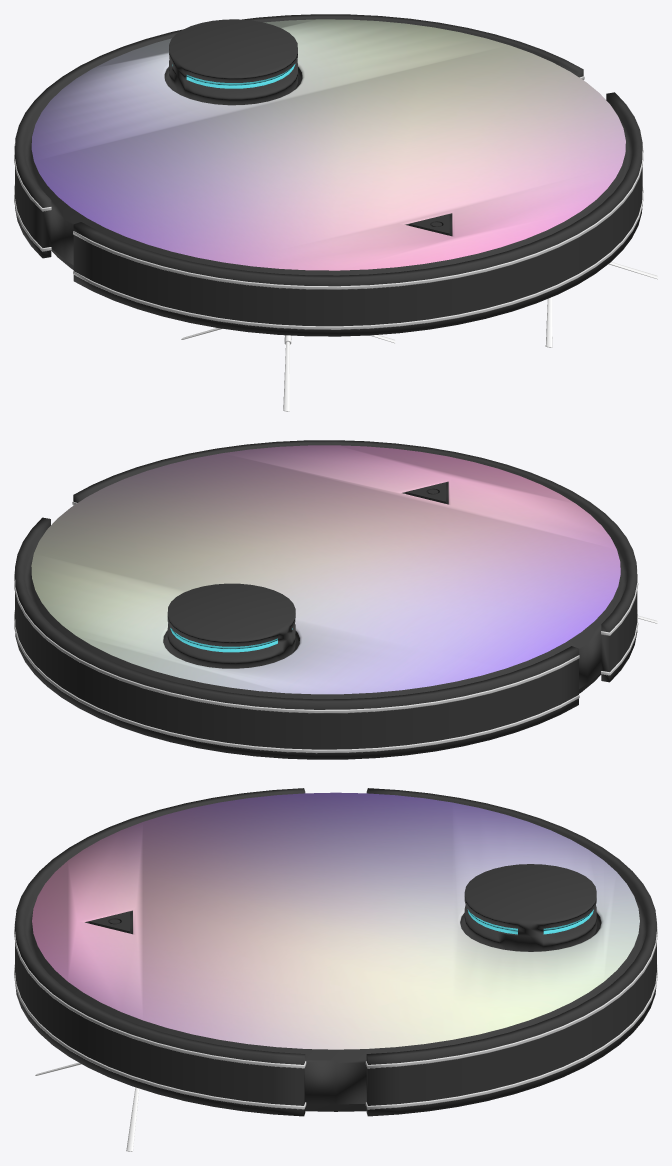
File: asset.glb
The picture shows the model from 3 angles, top to bottom: view 1: azimuth 30°, elevation 25°; view 2: azimuth 150°, elevation 25°; view 3: azimuth 270°, elevation 25°; orthographic projection. The views are drawn at different scales.
Visible parts, largest first — view 1: main body, signal, inner ring.001; view 2: main body, signal, inner ring.001, button; view 3: main body, signal, inner ring.001, button.
Boxes of the visible parts, x1,y1,x2,y2 form: main body: (15,14,642,336); signal: (169,19,297,105); inner ring.001: (14,76,643,329); main body: (15,440,637,759); signal: (167,583,295,668); inner ring.001: (14,501,638,753); button: (406,482,445,503); main body: (15,788,656,1116); signal: (464,864,596,951); inner ring.001: (14,918,657,1109); button: (88,911,129,933).
Bounding box in the file's own units: 0.653 × 0.165 × 0.6567.
7 materials, 1 textured.
